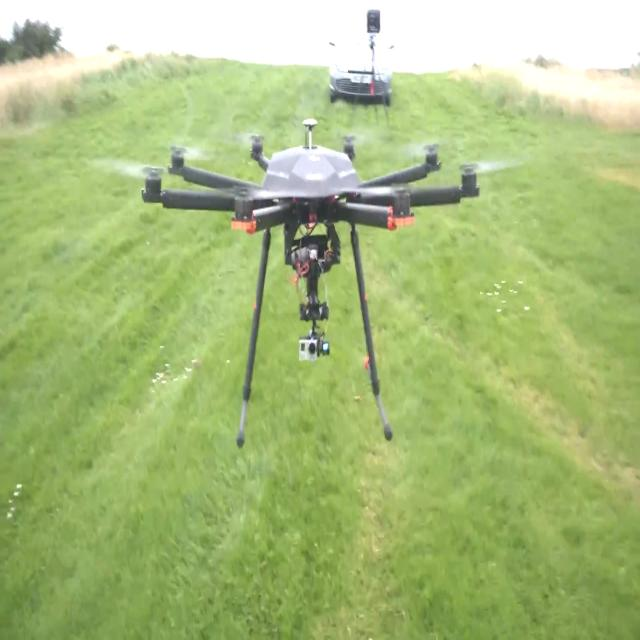drone: (127, 87, 495, 457)
